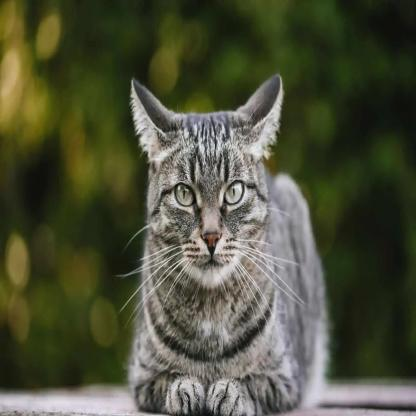cat: (130, 77, 296, 416)
